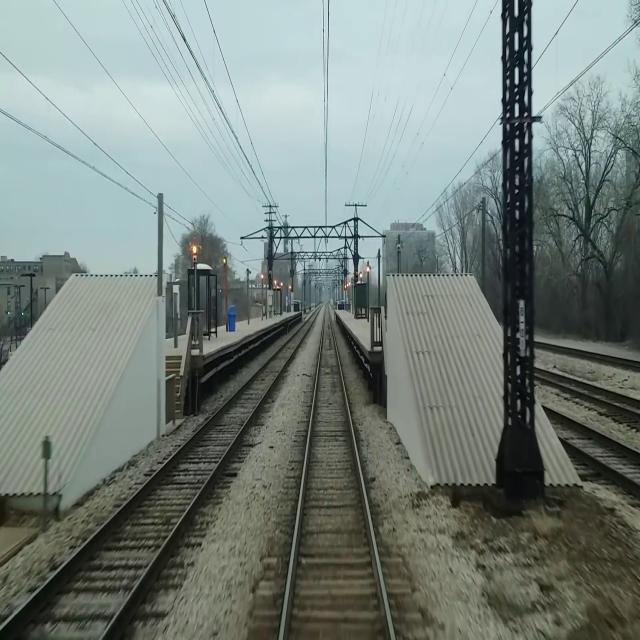rail-track: (0, 313, 315, 639), (283, 306, 391, 639), (544, 409, 640, 479), (545, 374, 640, 409)
